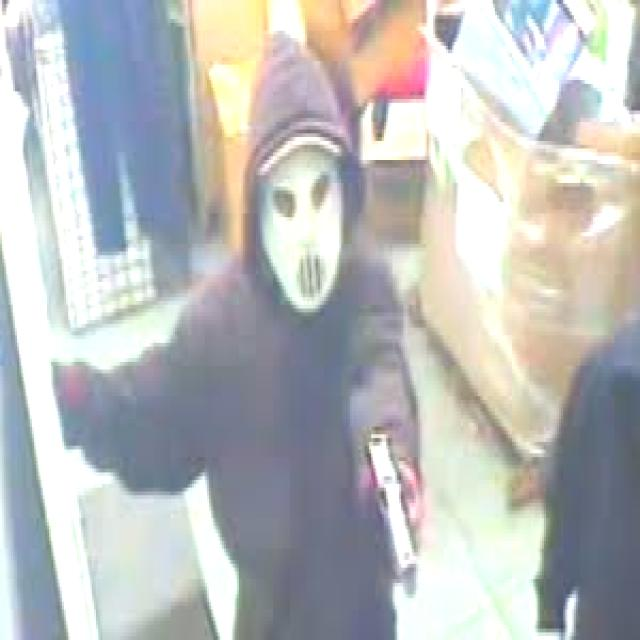pistol: (348, 419, 418, 602)
